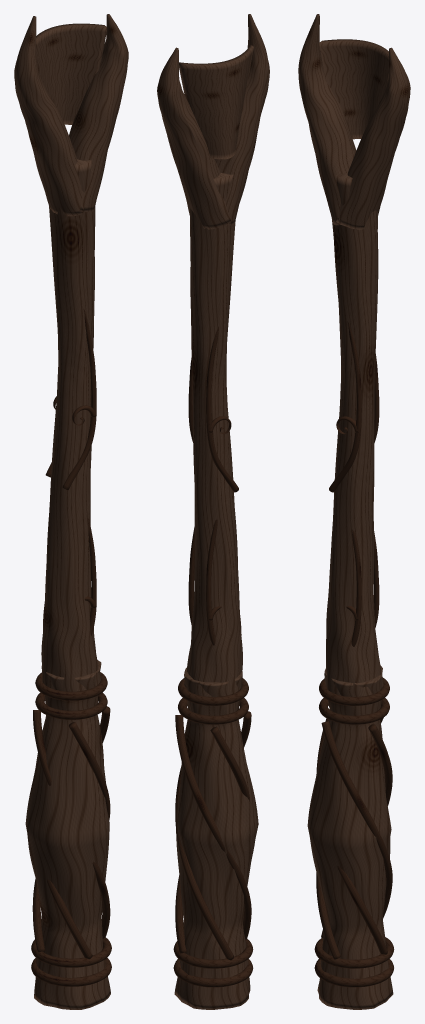
File: duskoak_wand.glb
3 views of the same model, side by side, from view 1: azimuth 30°, elevation 25°; view 2: azimuth 210°, elevation 25°; view 3: azimuth 330°, elevation 25° (orthographic).
Parts seen in each view (by area): view 1: Polished dark ash heartwood, Raised polished carved wood edges; view 2: Polished dark ash heartwood, Raised polished carved wood edges; view 3: Polished dark ash heartwood, Raised polished carved wood edges.
Part boxes in pixels (bbox=[...]): Polished dark ash heartwood: bbox=[14, 14, 128, 1009]; Raised polished carved wood edges: bbox=[31, 309, 111, 986]; Polished dark ash heartwood: bbox=[157, 14, 269, 1009]; Raised polished carved wood edges: bbox=[173, 327, 253, 987]; Polished dark ash heartwood: bbox=[298, 14, 410, 1009]; Raised polished carved wood edges: bbox=[314, 321, 394, 987].
Size of the model in its own units: 0.0599 by 0.5171 by 0.04.
Materials: 2 (2 with a texture image).
